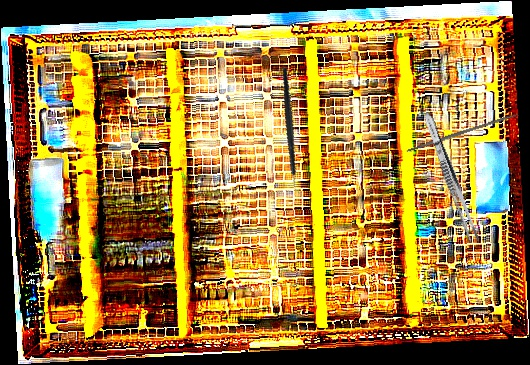Chopper: (251, 67, 334, 196)
Dressing Forceps: (419, 110, 483, 245)
Scalpel Handle: (405, 111, 519, 154)
